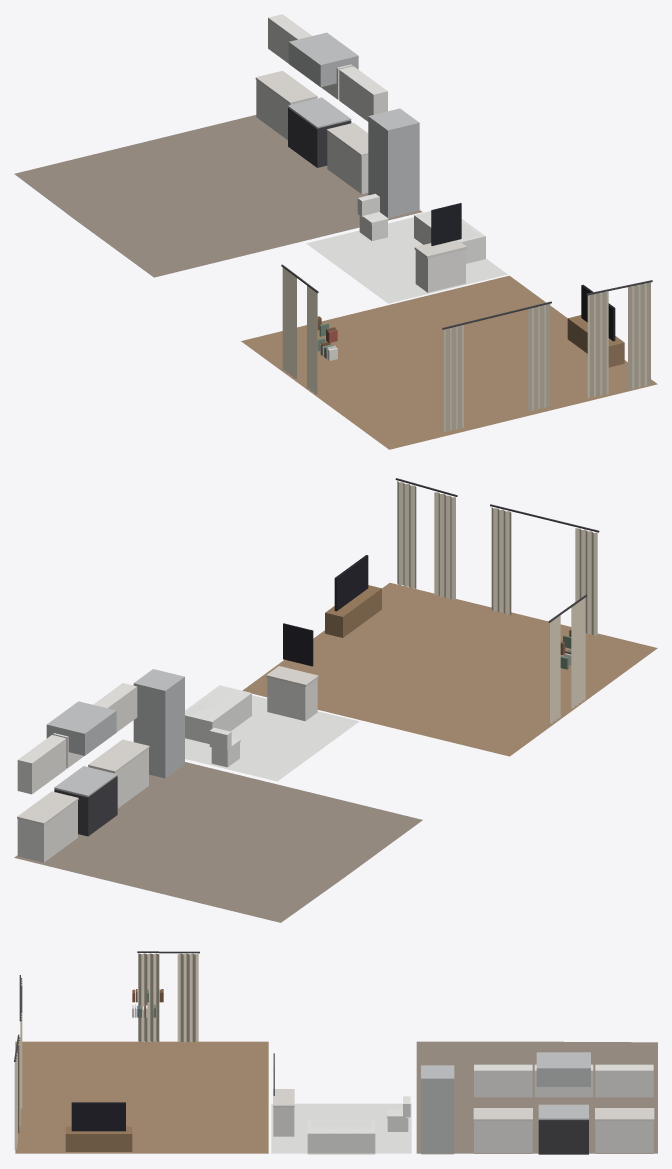
The model's file is fine-s2.glb.
The picture shows the model from 3 angles, top to bottom: view 1: azimuth 30°, elevation 25°; view 2: azimuth 150°, elevation 25°; view 3: azimuth 270°, elevation 25°; orthographic projection. The views are drawn at different scales.
Parts seen in each view (by area): view 1: soft-s2, range.001, fridge.001, vanity.001, counter-run.003, counter-run.002, kitchen-upper.005, tv-console.002, bathtub.001, kitchen-upper.003, toilet.001; view 2: soft-s2, range.001, fridge.001, vanity.001, counter-run.002, tv-console.002, bathtub.001, counter-run.003, kitchen-upper.003, kitchen-upper.005, toilet.001; view 3: soft-s2, range.001, tv-console.002, fridge.001, counter-run.002, counter-run.003, bathtub.001, kitchen-upper.003, kitchen-upper.005, vanity.001, kitchen-upper.004, toilet.001.
Boxes of the visible parts, x1,y1,x2,y2 form: soft-s2: (14, 115, 657, 449); range.001: (288, 32, 358, 167); fridge.001: (368, 108, 419, 217); vanity.001: (414, 203, 466, 292); counter-run.003: (326, 122, 368, 194); counter-run.002: (255, 70, 317, 139); kitchen-upper.005: (339, 66, 387, 121); tv-console.002: (567, 284, 624, 367); bathtub.001: (414, 211, 485, 263); kitchen-upper.003: (268, 14, 311, 63); toilet.001: (357, 193, 388, 240); soft-s2: (14, 478, 657, 922); range.001: (46, 701, 117, 836); fridge.001: (133, 669, 184, 778); vanity.001: (266, 623, 318, 721); counter-run.002: (17, 791, 78, 862); tv-console.002: (325, 555, 381, 637); bathtub.001: (185, 685, 251, 743); counter-run.003: (88, 739, 149, 808); kitchen-upper.003: (17, 735, 66, 794); kitchen-upper.005: (93, 683, 137, 731); toilet.001: (209, 727, 240, 767); soft-s2: (14, 951, 657, 1153); range.001: (536, 1052, 590, 1154); tv-console.002: (65, 1102, 132, 1151); fridge.001: (421, 1065, 454, 1154); counter-run.002: (595, 1108, 654, 1153); counter-run.003: (473, 1108, 532, 1153); bathtub.001: (307, 1120, 375, 1154); kitchen-upper.003: (595, 1064, 653, 1097); kitchen-upper.005: (474, 1064, 532, 1097); vanity.001: (273, 1053, 294, 1136); kitchen-upper.004: (534, 1064, 593, 1097); toilet.001: (387, 1096, 410, 1131).
Bounding box in the file's own units: 6.49 × 2.41 × 15.4.
